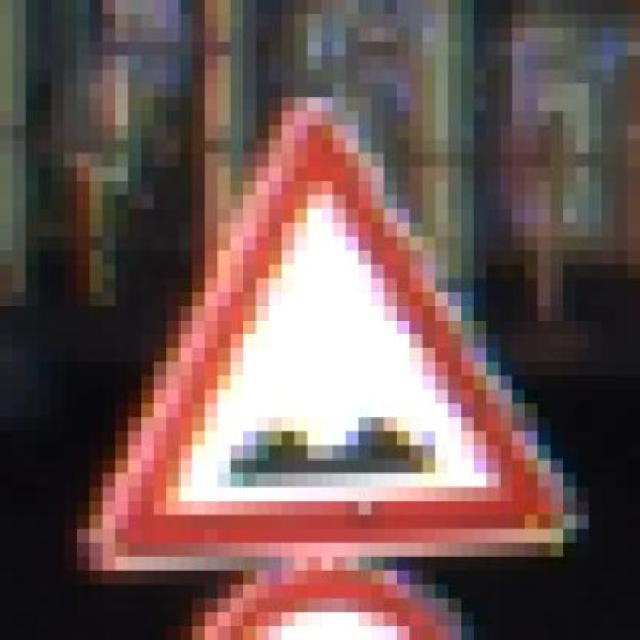Uneven Road: (77, 83, 589, 557)
